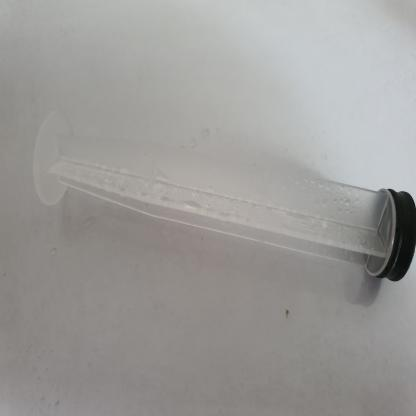wet: (37, 101, 409, 291)
